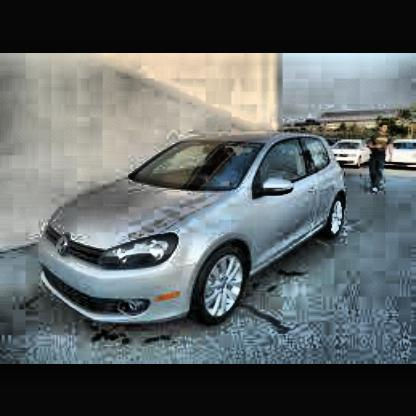Volkswagen Golf Hatchback 2012: (38, 135, 351, 329)
